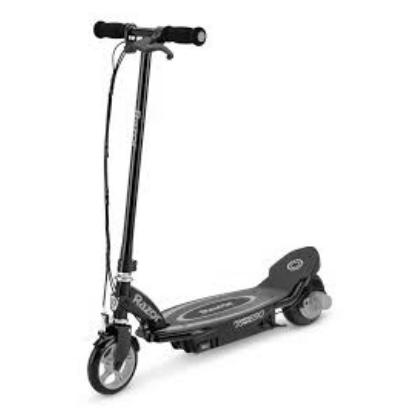bike: (86, 31, 333, 397)
